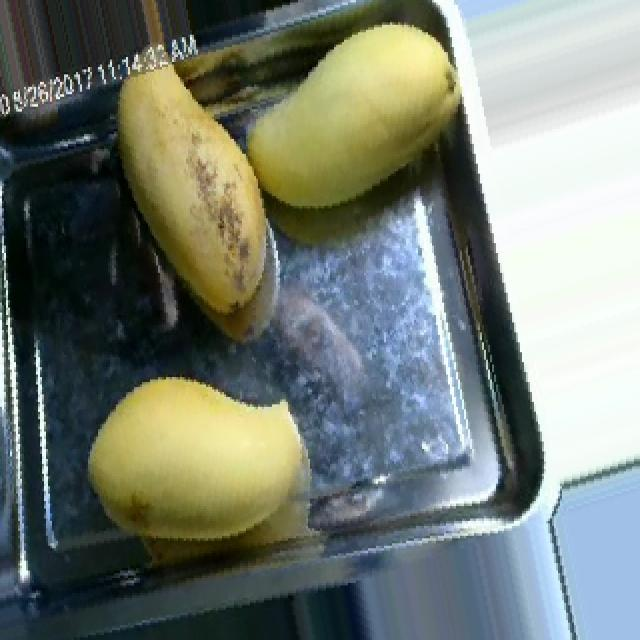fruit: (224, 0, 480, 241), (100, 49, 310, 340), (66, 350, 344, 568), (528, 434, 640, 638)
